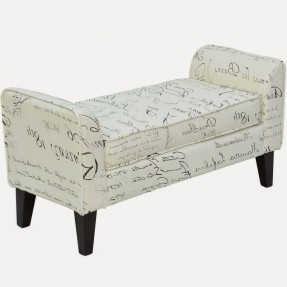chairs: (5, 38, 287, 261)
